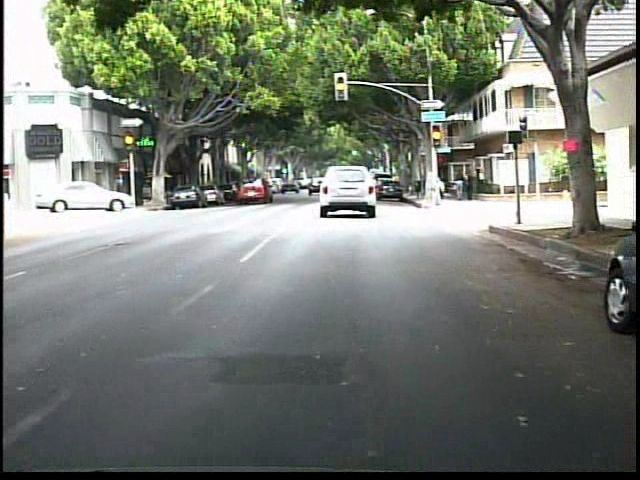person: (427, 171, 448, 210), (452, 167, 467, 202), (462, 167, 475, 204), (473, 162, 484, 196)
